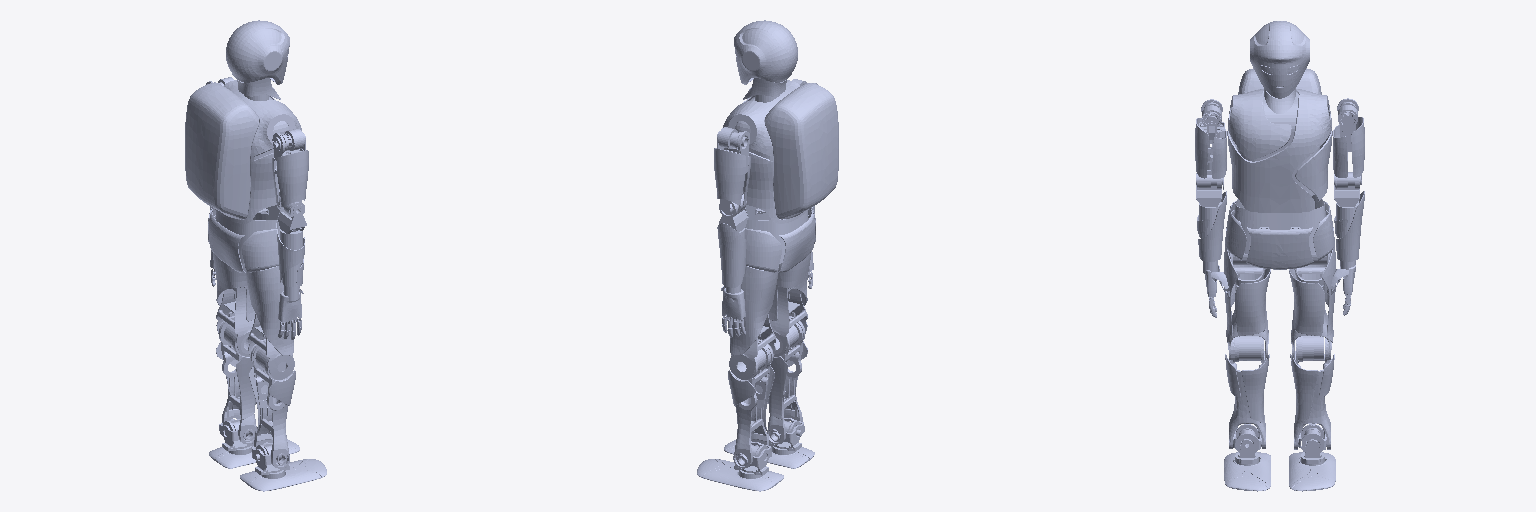
URDF robot description (rrbot):
<!--?xml version="1.0" encoding="utf-8"?-->

<robot name="rrbot">
  
  <link name="pelvis">
    <inertial>
      <origin rpy="0 0 0" xyz="-0.0517 0 0.9727 "/>
      <mass value="2.3"/>
      <inertia ixx="0.001365" ixy="0.000068" ixz="-0.000361" iyy="0.006717" iyz="-0.000089" izz="0.001752"/>
    </inertial>
    <visual>
      <origin rpy="0 0 0" xyz="0 0 0.942"/>
      <geometry>
        <mesh filename="meshes/pelvis.STL"/>
      </geometry>
      <material name="">
        <color rgba="0.792156862745098 0.819607843137255 0.933333333333333 1"/>
      </material>
    </visual>
    <collision>
      <origin rpy="1.57 0 0.0" xyz="0  0 0.942"/>
      <geometry>
        <cylinder length="0.23" radius="0.08"/>
      </geometry>
    </collision>
  </link>
  <link name="RLeg_HipY_Link">
    <inertial>
      <origin rpy="0 0 0" xyz="-0.067 0 -0.059 "/>
      <mass value="1.29"/>
      <inertia ixx="0.005106" ixy="0.000029" ixz="0.003622" iyy="0.011031" iyz="0.000013" izz="0.007143"/>
    </inertial>
  </link>
  <link name="RLeg_Hip_Uni_Link">
    <inertial>
      <origin rpy="0 0 0" xyz="-0.003 -0.002 -0.0004 "/>
      <mass value="1.15"/>
      <inertia ixx="0.001754" ixy="-0.000017" ixz="0.000034" iyy="0.001753" iyz="0.000002" izz="0.025712"/>
    </inertial>
  </link>
  <link name="RLeg_Hip_Thigh_Link">
    <inertial>
      <origin rpy="0 0 0" xyz="0.002 0.001 -0.19 "/>
      <mass value="2.08"/>
      <inertia ixx="0.031121" ixy="-0.00004" ixz="-0.000024" iyy="0.029521" iyz="0.000317" izz="0.006842"/>
    </inertial>
    <visual>
      <origin rpy="0 0 0" xyz="0 0 0"/>
      <geometry>
        <mesh filename="meshes/Thigh-Right.STL"/>
      </geometry>
      <material name="">
        <color rgba="0.792156862745098 0.819607843137255 0.933333333333333 1"/>
      </material>
    </visual>
    <collision>
      <origin rpy="0 0 0" xyz="0  0 -0.185"/>
      <geometry>
        <cylinder length="0.35" radius="0.04"/>
      </geometry>
    </collision>
  </link>
  <link name="RLeg_Hip_Shank_Link">
    <inertial>
      <origin rpy="0 0 0" xyz="0.0013 0.0014 -0.09 "/>
      <mass value="4.85"/>
      <inertia ixx="0.059549" ixy="0.000020" ixz="-0.000220" iyy="0.055950" iyz="0.001301" izz="0.009826"/>
    </inertial>
    <visual>
      <origin rpy="0 0 0" xyz="0 0 0"/>
      <geometry>
        <mesh filename="meshes/Shank-Right.STL"/>
      </geometry>
      <material name="">
        <color rgba="0.792156862745098 0.819607843137255 0.933333333333333 1"/>
      </material>
    </visual>
    <collision>
      <origin rpy="0 0 0" xyz="0  0 -0.18"/>
      <geometry>
        <cylinder length="0.35" radius="0.04"/>
      </geometry>
    </collision>
  </link>
  <link name="RLeg_Ankle_Uni_Link">
    <inertial>
      <origin rpy="0 0 0" xyz="-0.029 -0.0017 0.057 "/>
      <mass value="2.49"/>
      <inertia ixx="0.028025" ixy="-0.000028" ixz="-0.004505" iyy="0.029547" iyz="-0.000618" izz="0.006102"/>
    </inertial>
  </link>
  <link name="RLeg_Foot_Link">
    <inertial>
      <origin rpy="0 0 0" xyz="0.0055 0.0012 -0.072 "/>
      <mass value="1.48"/>
      <inertia ixx="0.001702" ixy="0.000013" ixz="-0.000187" iyy="0.003158" iyz="-0.000031" izz="0.003625"/>
    </inertial>
    <visual>
      <origin rpy="0 0 0" xyz="0 0 0"/>
      <geometry>
        <mesh filename="meshes/Foot-Right.STL"/>
      </geometry>
      <material name="">
        <color rgba="0.792156862745098 0.819607843137255 0.933333333333333 1"/>
      </material>
    </visual>
    <collision name="RLeg_Foot_Link_collision">
      <origin rpy="0 0 0" xyz=".045  0 -.1"/>
      <geometry>
        <box size="0.26 0.16 0.02"/>
      </geometry>
    </collision>
  </link>
  <link name="LLeg_HipY_Link">
    <inertial>
      <origin rpy="0 0 0" xyz="-0.067 0 -0.059 "/>
      <mass value="1.29"/>
      <inertia ixx="0.005106" ixy="-0.000029" ixz="0.003622" iyy="0.011031" iyz="-0.000013" izz="0.007143"/>
    </inertial>
  </link>
  <link name="LLeg_Hip_Uni_Link">
    <inertial>
      <origin rpy="0 0 0" xyz="-0.003 0.002 -0.0004 "/>
      <mass value="1.15"/>
      <inertia ixx="0.001754" ixy="0.000017" ixz="0.000034" iyy="0.001753" iyz="-0.000002" izz="0.025712"/>
    </inertial>
  </link>
  <link name="LLeg_Hip_Thigh_Link">
    <inertial>
      <origin rpy="0 0 0" xyz="0.002 -0.001 -0.19 "/>
      <mass value="2.08"/>
      <inertia ixx="0.031121" ixy="0.00004" ixz="-0.000024" iyy="0.029521" iyz="-0.000317" izz="0.006842"/>
    </inertial>
    <visual>
      <origin rpy="0 0 0" xyz="0 0 0"/>
      <geometry>
        <mesh filename="meshes/Thigh-Left.STL"/>
      </geometry>
      <material name="">
        <color rgba="0.792156862745098 0.819607843137255 0.933333333333333 1"/>
      </material>
    </visual>
    <collision>
      <origin rpy="0 0 0" xyz="0 0 -0.18"/>
      <geometry>
        <cylinder length="0.35" radius="0.04"/>
      </geometry>
    </collision>
  </link>
  <link name="LLeg_Hip_Shank_Link">
    <inertial>
      <origin rpy="0 0 0" xyz="0.0013 -0.0014 -0.09  "/>
      <mass value="4.85"/>
      <inertia ixx="0.059549" ixy="-0.000020" ixz="-0.000220" iyy="0.055950" iyz="-0.001301" izz="0.009826"/>
    </inertial>
    <visual>
      <origin rpy="0 0 0" xyz="0 0 0"/>
      <geometry>
        <mesh filename="meshes/Shank-Left.STL"/>
      </geometry>
      <material name="">
        <color rgba="0.792156862745098 0.819607843137255 0.933333333333333 1"/>
      </material>
    </visual>
    <collision>
      <origin rpy="0 0 0" xyz="0  0 -0.18"/>
      <geometry>
        <cylinder length="0.35" radius="0.04"/>
      </geometry>
    </collision>
  </link>
  <link name="LLeg_Ankle_Uni_Link">
    <inertial>
      <origin rpy="0 0 0" xyz="-0.029 0.0017 0.057  "/>
      <mass value="2.49"/>
      <inertia ixx="0.028025" ixy="0.000028" ixz="-0.004505" iyy="0.029547" iyz="0.000618" izz="0.006102"/>
    </inertial>
  </link>
  <link name="LLeg_Foot_Link">
    <inertial>
      <origin rpy="0 0 0" xyz="0.0055 -0.0012 -0.072 "/>
      <mass value="1.48"/>
      <inertia ixx="0.001702" ixy="-0.000013" ixz="-0.000187" iyy="0.003158" iyz="0.000031" izz="0.003625"/>
    </inertial>
    <visual>
      <origin rpy="0 0 0" xyz="0 0 0"/>
      <geometry>
        <mesh filename="meshes/Foot-Left.STL"/>
      </geometry>
      <material name="">
        <color rgba="0.792156862745098 0.819607843137255 0.933333333333333 1"/>
      </material>
    </visual>
    <collision name="LLeg_Foot_Link_collision">
      <origin rpy="0 0 0" xyz=".045  0 -.1"/>
      <geometry>
        <box size="0.26 0.16 0.02"/>
      </geometry>
    </collision>
  </link>
  
  <link name="WAIST_LINK1">
    <inertial>
      <origin rpy="0 0 0" xyz="0.015 0  0.129"/>
      <mass value="1.15"/>
      <inertia ixx="0.005193" ixy="-0.000046" ixz="0.001342" iyy="0.005931" iyz="0.000018" izz="0.001888"/>
    </inertial>
  </link>
  <link name="WAIST_LINK2">
    <inertial>
      <origin rpy="0 0 0" xyz="-0.016 0 0.169 "/>
      <mass value="12.832"/>
      <inertia ixx="0.233950" ixy="-0.000513" ixz="0.009826" iyy="0.209591" iyz="0.000836" izz="0.164625"/>
    </inertial>
    <visual>
      <origin rpy="0 0 0" xyz="0 0 0"/>
      <geometry>
        <mesh filename="meshes/tORSO.STL"/>
      </geometry>
      <material name="">
        <color rgba="0.792156862745098 0.819607843137255 0.933333333333333 1"/>
      </material>
    </visual>
    <collision>
      <origin rpy="0 0 0" xyz="0 0 0"/>
      <geometry>
        <mesh filename="meshes/tORSO.STL"/>
      </geometry>
    </collision>
  </link>
  <link name="RARM_LINK1">
    <inertial>
      <origin rpy="0 0 0" xyz="0.01 0.011 0 "/>
      <mass value="1.162"/>
      <inertia ixx="0.001332" ixy="0.000003" ixz="0.000076" iyy="0.001700" iyz="0.000013" izz="0.001964"/>
    </inertial>
  </link>
  <link name="RARM_LINK2">
    <inertial>
      <origin rpy="0 0 0" xyz="0.001 0.004 -0.090 "/>
      <mass value="0.727"/>
      <inertia ixx="0.001536" ixy="-0.000002" ixz="-0.000031" iyy="0.001820" iyz="-0.000028" izz="0.001210"/>
    </inertial>
  </link>
  <link name="RARM_LINK3">
    <inertial>
      <origin rpy="0 0 0" xyz="0.003 0.006 -0.233 "/>
      <mass value="0.846"/>
      <inertia ixx="0.001700" ixy="0.000007" ixz="-0.000010" iyy="0.001308" iyz="-0.000014" izz="0.00923"/>
    </inertial>
    <visual>
      <origin rpy="0 0 0" xyz="0 0 0"/>
      <geometry>
        <mesh filename="meshes/Upper-arm-right.STL"/>
      </geometry>
      <material name="">
        <color rgba="0.792156862745098 0.819607843137255 0.933333333333333 1"/>
      </material>
    </visual>
    <collision>
      <origin rpy="0 0 0" xyz="0 0 0"/>
      <geometry>
        <mesh filename="meshes/Upper-arm-right.STL"/>
      </geometry>
    </collision>
  </link>
  <link name="RARM_LINK4">
    <inertial>
      <origin rpy="0 0 0" xyz="0 0 -0.151"/>
      <mass value="1.243"/>
      <inertia ixx="0.008731" ixy="0.000005" ixz="-0.000010" iyy="0.008629" iyz="0.000081" izz="0.000868"/>
    </inertial>
    <visual>
      <origin rpy="0 0 0" xyz="0 0 0"/>
      <geometry>
        <mesh filename="meshes/fore-arm-right.STL"/>
      </geometry>
      <material name="">
        <color rgba="0.792156862745098 0.819607843137255 0.933333333333333 1"/>
      </material>
    </visual>
  </link>
  <link name="RARM_LINK5">
    <inertial>
      <origin rpy="0 0 0" xyz="0 0 0"/>
      <mass value="0.01"/>
      <inertia ixx="0.00001" ixy="0.0" ixz="0.0" iyy="0.00001" iyz="0.0" izz="0.00001"/>
    </inertial>
  </link>
  <link name="RARM_LINK6">
    <inertial>
      <origin rpy="0 0 0" xyz="0 0 0"/>
      <mass value="0.01"/>
      <inertia ixx="0.00001" ixy="0.0" ixz="0.0" iyy="0.00001" iyz="0.0" izz="0.00001"/>
    </inertial>
  </link>
  <link name="RARM_LINK7">
    <inertial>
      <origin rpy="0 0 0" xyz="0 0 -0.05 "/>
      <mass value="0.2"/>
      <inertia ixx="0.001" ixy="0.0" ixz="0.0" iyy="0.001" iyz="0.0" izz="0.001"/>
    </inertial>
    <visual>
      <origin rpy="0 0 0" xyz="0 0 0"/>
      <geometry>
        <mesh filename="meshes/Hand-Right.STL"/>
      </geometry>
      <material name="">
        <color rgba="0.792156862745098 0.819607843137255 0.933333333333333 1"/>
      </material>
    </visual>
    <collision>
      <origin rpy="0 0 0" xyz="0 0 0"/>
      <geometry>
        <mesh filename="meshes/Hand-Right.STL"/>
      </geometry>
    </collision>
  </link>
  <link name="LARM_LINK1">
    <inertial>
      <origin rpy="0 0 0" xyz="0.01 -0.011 0 "/>
      <mass value="1.162"/>
      <inertia ixx="0.001332" ixy="-0.000003" ixz="0.000076" iyy="0.0017000" iyz="-0.000013" izz="0.001964"/>
    </inertial>
  </link>
  <link name="LARM_LINK2">
    <inertial>
      <origin rpy="0 0 0" xyz="0.001 -0.004 -0.090"/>
      <mass value="0.727"/>
      <inertia ixx="0.001536" ixy="-0.000002" ixz="-0.000031" iyy="0.001820" iyz="-0.000028" izz="0.001210"/>
    </inertial>
  </link>
  <link name="LARM_LINK3">
    <inertial>
      <origin rpy="0 0 0" xyz="0.003 -0.006 -0.233 "/>
      <mass value="0.846"/>
      <inertia ixx="0.0017" ixy="-0.000007" ixz="-0.000010" iyy="0.001308" iyz="0.000014" izz="0.00923"/>
    </inertial>
    <visual>
      <origin rpy="0 0 0" xyz="0 0 0"/>
      <geometry>
        <mesh filename="meshes/Upper-arm-Left.STL"/>
      </geometry>
      <material name="">
        <color rgba="0.792156862745098 0.819607843137255 0.933333333333333 1"/>
      </material>
    </visual>
    <collision>
      <origin rpy="0 0 0" xyz="0  0 0"/>
      <geometry>
        <mesh filename="meshes/Upper-arm-Left.STL"/>
      </geometry>
    </collision>
  </link>
  <link name="LARM_LINK4">
    <inertial>
      <origin rpy="0 0 0" xyz="0 0 -0.151 "/>
      <mass value="1.243"/>
      <inertia ixx="0.008731" ixy="-0.000005" ixz="-0.000010" iyy="0.008629" iyz="-0.000081" izz="0.000868"/>
    </inertial>
    <visual>
      <origin rpy="0 0 0" xyz="0 0 0"/>
      <geometry>
        <mesh filename="meshes/fore-arm-Left.STL"/>
      </geometry>
      <material name="">
        <color rgba="0.792156862745098 0.819607843137255 0.933333333333333 1"/>
      </material>
    </visual>
  </link>
  <link name="LARM_LINK5">
    <inertial>
      <origin rpy="0 0 0" xyz="0 0 0"/>
      <mass value="0.01"/>
      <inertia ixx="0.00001" ixy="0.0" ixz="0.0" iyy="0.00001" iyz="0.0" izz="0.00001"/>
    </inertial>
  </link>
  <link name="LARM_LINK6">
    <inertial>
      <origin rpy="0 0 0" xyz="0 0 0"/>
      <mass value="0.01"/>
      <inertia ixx="0.00001" ixy="0.0" ixz="0.0" iyy="0.00001" iyz="0.0" izz="0.00001"/>
    </inertial>
  </link>
  <link name="LARM_LINK7">
    <inertial>
      <origin rpy="0 0 0" xyz="0 0 -0.05 "/>
      <mass value="0.2"/>
      <inertia ixx="0.001" ixy="0.0" ixz="0.0" iyy="0.001" iyz="0.0" izz="0.001"/>
    </inertial>
    <visual>
      <origin rpy="0 0 0" xyz="0 0 0"/>
      <geometry>
        <mesh filename="meshes/Hand-Left.STL"/>
      </geometry>
      <material name="">
        <color rgba="0.792156862745098 0.819607843137255 0.933333333333333 1"/>
      </material>
    </visual>
    <collision>
      <origin rpy="0 0 0" xyz="0 0 0"/>
      <geometry>
        <mesh filename="meshes/Hand-Left.STL"/>
      </geometry>
    </collision>
  </link>
  <joint name="RLeg_HipY_J1" type="continuous">
    <origin rpy="0 0 0" xyz="0 -0.115 0.9727 "/>
    <parent link="pelvis"/>
    <child link="RLeg_HipY_Link"/>
    <axis xyz="0 0 1"/>
    
  </joint>
  
  <joint name="RLeg_HipR_J2" type="continuous">
    <origin rpy="0 0 0" xyz="0 0 -0.1327 "/>
    <parent link="RLeg_HipY_Link"/>
    <child link="RLeg_Hip_Uni_Link"/>
    <axis xyz="1 0 0"/>
    
  </joint>
  
  <joint name="RLeg_HipP_J3" type="continuous">
    <origin rpy="0 0 0" xyz="0 0 0"/>
    <parent link="RLeg_Hip_Uni_Link"/>
    <child link="RLeg_Hip_Thigh_Link"/>
    <axis xyz="0 1 0"/>
    
  </joint>
  
  <joint name="RLeg_KneeP_J4" type="continuous">
    <origin rpy="0 0 0" xyz="0 0 -0.37 "/>
    <parent link="RLeg_Hip_Thigh_Link"/>
    <child link="RLeg_Hip_Shank_Link"/>
    <axis xyz="0 1 0"/>
    
  </joint>
  
  <joint name="RLeg_AnkleP_J5" type="continuous">
    <origin rpy="0 0 0" xyz="0 0 -0.36 "/>
    <parent link="RLeg_Hip_Shank_Link"/>
    <child link="RLeg_Ankle_Uni_Link"/>
    <axis xyz="0 1 0"/>
    
  </joint>
  
  <joint name="RLeg_AnkleR_J6" type="continuous">
    <origin rpy="0 0 0" xyz="0 0 0"/>
    <parent link="RLeg_Ankle_Uni_Link"/>
    <child link="RLeg_Foot_Link"/>
    <axis xyz="1 0 0"/>
    
  </joint>
  
  <joint name="LLeg_HipY_J1" type="continuous">
    <origin rpy="0 0 0" xyz="0 0.115 0.9727 "/>
    <parent link="pelvis"/>
    <child link="LLeg_HipY_Link"/>
    <axis xyz="0 0 1"/>
    
  </joint>

  <joint name="LLeg_HipR_J2" type="continuous">
    <origin rpy="0 0 0" xyz="0 0 -0.1327 "/>
    <parent link="LLeg_HipY_Link"/>
    <child link="LLeg_Hip_Uni_Link"/>
    <axis xyz="1 0 0"/>
    
  </joint>

  <joint name="LLeg_HipP_J3" type="continuous">
    <origin rpy="0 0 0" xyz="0 0 0"/>
    <parent link="LLeg_Hip_Uni_Link"/>
    <child link="LLeg_Hip_Thigh_Link"/>
    <axis xyz="0 1 0"/>
    
  </joint>

  <joint name="LLeg_KneeP_J4" type="continuous">
    <origin rpy="0 0 0" xyz="0 0 -0.37 "/>
    <parent link="LLeg_Hip_Thigh_Link"/>
    <child link="LLeg_Hip_Shank_Link"/>
    <axis xyz="0 1 0"/>
    
  </joint>

  <joint name="LLeg_AnkleP_J5" type="continuous">
    <origin rpy="0 0 0" xyz="0 0 -0.36 "/>
    <parent link="LLeg_Hip_Shank_Link"/>
    <child link="LLeg_Ankle_Uni_Link"/>
    <axis xyz="0 1 0"/>
    
  </joint>

  <joint name="LLeg_AnkleR_J6" type="continuous">
    <origin rpy="0 0 0" xyz="0 0 0"/>
    <parent link="LLeg_Ankle_Uni_Link"/>
    <child link="LLeg_Foot_Link"/>
    <axis xyz="1 0 0"/>
    
  </joint>
  
  <joint name="Waist_Y_J1" type="continuous">
    <origin rpy="0 0 0" xyz="0 0 0.9727"/>
    <parent link="pelvis"/>
    <child link="WAIST_LINK1"/>
    <axis xyz="0 0 1"/>
    
  </joint>

  <joint name="Waist_Y_J2" type="continuous">
    <origin rpy="0 0 0" xyz="0 0 0.1333"/>
    <parent link="WAIST_LINK1"/>
    <child link="WAIST_LINK2"/>
    <axis xyz="0 1 0"/>
    
  </joint>

  <joint name="RArm_ShoulderP_J1" type="continuous">
    <origin rpy="-0.174533 0 0" xyz="0  -0.239 0.2694"/>
    <parent link="WAIST_LINK2"/>
    <child link="RARM_LINK1"/>
    <axis xyz="0 1 0"/>
    
  </joint>
  
  <joint name="RArm_ShoulderR_J2" type="continuous">
    <origin rpy="0.174533 0 0" xyz="0 0 0"/>
    <parent link="RARM_LINK1"/>
    <child link="RARM_LINK2"/>
    <axis xyz="1 0 0"/>
    
  </joint>

  <joint name="RArm_ShoulderY_J3" type="continuous">
    <origin rpy="0 0 0" xyz="0 0 0"/>
    <parent link="RARM_LINK2"/>
    <child link="RARM_LINK3"/>
    <axis xyz="0 0 1"/>
    
  </joint>

  <joint name="RArm_ElbowP_J4" type="continuous">
    <origin rpy="0 0 0" xyz="0 0 -0.254"/>
    <parent link="RARM_LINK3"/>
    <child link="RARM_LINK4"/>
    <axis xyz="0 1 0"/>
    
  </joint>

  <joint name="RArm_WristY_J5" type="continuous">
    <origin rpy="0 0 0" xyz="0 0 0"/>
    <parent link="RARM_LINK4"/>
    <child link="RARM_LINK5"/>
    <axis xyz="0 0 1"/>
    
  </joint>
  
  <joint name="RArm_WristR_J6" type="continuous">
    <origin rpy="0 0 0" xyz="0 0 -0.3302"/>
    <parent link="RARM_LINK5"/>
    <child link="RARM_LINK6"/>
    <axis xyz="1 0 0"/>
    
  </joint>
  <joint name="RArm_WristP_J7" type="continuous">
    <origin rpy="0 0 0" xyz="0 0 0"/>
    <parent link="RARM_LINK6"/>
    <child link="RARM_LINK7"/>
    <axis xyz="0 1 0"/>
    
  </joint>
  <joint name="LArm_ShoulderP_J1" type="continuous">
    <origin rpy="0.174533 0 0" xyz="0 0.239 0.2694"/>
    <parent link="WAIST_LINK2"/>
    <child link="LARM_LINK1"/>
    <axis xyz="0 1 0"/>
    
  </joint>
  <joint name="LArm_ShoulderR_J2" type="continuous">
    <origin rpy="-0.174533 0 0" xyz="0 0 0"/>
    <parent link="LARM_LINK1"/>
    <child link="LARM_LINK2"/>
    <axis xyz="1 0 0"/>
    
  </joint>
  <joint name="LArm_ShoulderY_J3" type="continuous">
    <origin rpy="0 0 0" xyz="0 0 0"/>
    <parent link="LARM_LINK2"/>
    <child link="LARM_LINK3"/>
    <axis xyz="0 0 1"/>
    
  </joint>
  <joint name="LArm_ElbowP_J4" type="continuous">
    <origin rpy="0 0 0" xyz="0 0 -0.254"/>
    <parent link="LARM_LINK3"/>
    <child link="LARM_LINK4"/>
    <axis xyz="0 1 0"/>
    <limit effort="300.0" lower="-1000.0" upper="-1000.0" velocity="0.5"/>
  </joint>
  <joint name="LArm_WristY_J5" type="continuous">
    <origin rpy="0 0 0" xyz="0 0 0"/>
    <parent link="LARM_LINK4"/>
    <child link="LARM_LINK5"/>
    <axis xyz="0 0 1"/>
    
  </joint>
  <joint name="LArm_WristR_J6" type="continuous">
    <origin rpy="0 0 0" xyz="0 0 -0.3302"/>
    <parent link="LARM_LINK5"/>
    <child link="LARM_LINK6"/>
    <axis xyz="1 0 0"/>
    
  </joint>
  <joint name="LArm_WristP_J7" type="continuous">
    <origin rpy="0 0 0" xyz="0 0 0"/>
    <parent link="LARM_LINK6"/>
    <child link="LARM_LINK7"/>
    <axis xyz="0 1 0"/>
    
  </joint>

	<!--Adding Extra link and joints for sole FT sensors>
  <link name="r_sole">
    <visual>
      <origin rpy="0 0 0" xyz="0.05 0 0.01"/>
      <geometry>
        <box size="0.3 0.15 0.001"/>
      </geometry>
    </visual>
    <collision>
      <origin rpy="0 0 0" xyz="0.05 0 0"/>
      <geometry>
        <box size="0.3 0.15 0.001"/>
      </geometry>
    </collision>
    <inertial>
      <origin rpy="0 0 0" xyz="0.05 0 0.0"/>
      <mass value="0.001"/>
      <inertia ixx="0.001702" ixy="-0.000013" ixz="-0.000187" iyy="0.003158" iyz="0.000031" izz="0.003625"/>
    </inertial>
  </link>

  <joint name="r_ft" type="fixed">
    <origin rpy="0 0 0" xyz="0 0 -0.11"/>
    <parent link="RLeg_Foot_Link"/>
    <child link="r_sole"/>
    
  </joint>

  <link name="l_sole">
    <visual>
      <origin rpy="0 0 0" xyz="0.05 0 0.01"/>
      <geometry>
        <box size="0.3 0.15 0.001"/>
      </geometry>
    </visual>
    <collision>
      <origin rpy="0 0 0" xyz="0.05 0 0"/>
      <geometry>
        <box size="0.3 0.15 0.001"/>
      </geometry>
    </collision>
    <inertial>
      <origin rpy="0 0 0" xyz="0.05 0 0.0"/>
      <mass value="0.001"/>
      <inertia ixx="0.001702" ixy="-0.000013" ixz="-0.000187" iyy="0.003158" iyz="0.000031" izz="0.003625"/>
    </inertial>
  </link>

  <joint name="l_ft" type="fixed">
    <origin rpy="0 0 0" xyz="0 0 -0.11"/>
    <parent link="LLeg_Foot_Link"/>
    <child link="l_sole"/>
    
  </joint-->


</robot>

--- Render facts (derived) ---
The picture shows the robot from 3 angles, left to right: view 1: azimuth 30°, elevation 25°; view 2: azimuth 150°, elevation 25°; view 3: azimuth 270°, elevation 25°; orthographic projection.
Robot: rrbot — 29 links, 28 joints (28 continuous); root link pelvis; default pose: all joints at 0.
Links seen in each view (by area): view 1: WAIST_LINK2, pelvis, RLeg_Hip_Thigh_Link, RLeg_Hip_Shank_Link, LLeg_Hip_Shank_Link, RARM_LINK3, LLeg_Hip_Thigh_Link, RARM_LINK4, RLeg_Foot_Link, LLeg_Foot_Link, RARM_LINK7; view 2: WAIST_LINK2, pelvis, LLeg_Hip_Thigh_Link, LLeg_Hip_Shank_Link, RLeg_Hip_Shank_Link, LARM_LINK3, RLeg_Hip_Thigh_Link, LLeg_Foot_Link, LARM_LINK4, RLeg_Foot_Link, LARM_LINK7; view 3: WAIST_LINK2, pelvis, LLeg_Hip_Thigh_Link, RLeg_Hip_Thigh_Link, RLeg_Hip_Shank_Link, LLeg_Hip_Shank_Link, RLeg_Foot_Link, LLeg_Foot_Link, RARM_LINK4, LARM_LINK4, RARM_LINK3, LARM_LINK3 (+2 smaller).
Boxes of the visible links, <box> form: WAIST_LINK2: <box>185,20,301,223</box>; pelvis: <box>208,205,281,272</box>; RLeg_Hip_Thigh_Link: <box>245,266,299,379</box>; RLeg_Hip_Shank_Link: <box>249,340,295,468</box>; LLeg_Hip_Shank_Link: <box>216,316,256,444</box>; RARM_LINK3: <box>272,129,308,209</box>; LLeg_Hip_Thigh_Link: <box>212,251,255,356</box>; RARM_LINK4: <box>276,197,306,300</box>; RLeg_Foot_Link: <box>240,443,326,491</box>; LLeg_Foot_Link: <box>209,419,299,468</box>; RARM_LINK7: <box>278,288,303,339</box>; WAIST_LINK2: <box>723,20,838,223</box>; pelvis: <box>745,205,815,272</box>; LLeg_Hip_Thigh_Link: <box>726,266,778,379</box>; LLeg_Hip_Shank_Link: <box>728,340,774,468</box>; RLeg_Hip_Shank_Link: <box>767,316,807,444</box>; LARM_LINK3: <box>714,127,750,214</box>; RLeg_Hip_Thigh_Link: <box>768,251,811,356</box>; LLeg_Foot_Link: <box>697,441,783,491</box>; LARM_LINK4: <box>717,194,748,300</box>; RLeg_Foot_Link: <box>724,418,814,468</box>; LARM_LINK7: <box>721,286,745,337</box>; WAIST_LINK2: <box>1227,21,1332,212</box>; pelvis: <box>1225,195,1334,269</box>; LLeg_Hip_Thigh_Link: <box>1289,245,1335,359</box>; RLeg_Hip_Thigh_Link: <box>1224,245,1270,359</box>; RLeg_Hip_Shank_Link: <box>1225,336,1269,448</box>; LLeg_Hip_Shank_Link: <box>1290,336,1334,449</box>; RLeg_Foot_Link: <box>1224,424,1270,491</box>; LLeg_Foot_Link: <box>1289,424,1335,491</box>; RARM_LINK4: <box>1196,173,1226,273</box>; LARM_LINK4: <box>1334,172,1364,272</box>; RARM_LINK3: <box>1195,99,1226,189</box>; LARM_LINK3: <box>1333,98,1364,188</box>.
Size in the robot's own frame: 0.4468 by 0.5979 by 1.72 metres.
Meshes: 14 distinct files referenced, 14 mesh visuals loaded (14 binary STL).
